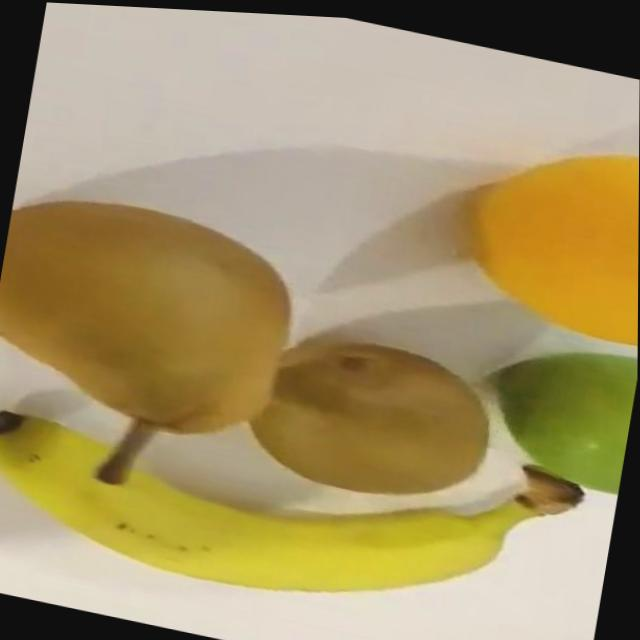Apple: (481, 326, 638, 491)
Banana: (0, 353, 588, 640)
Orange: (415, 92, 640, 361)
